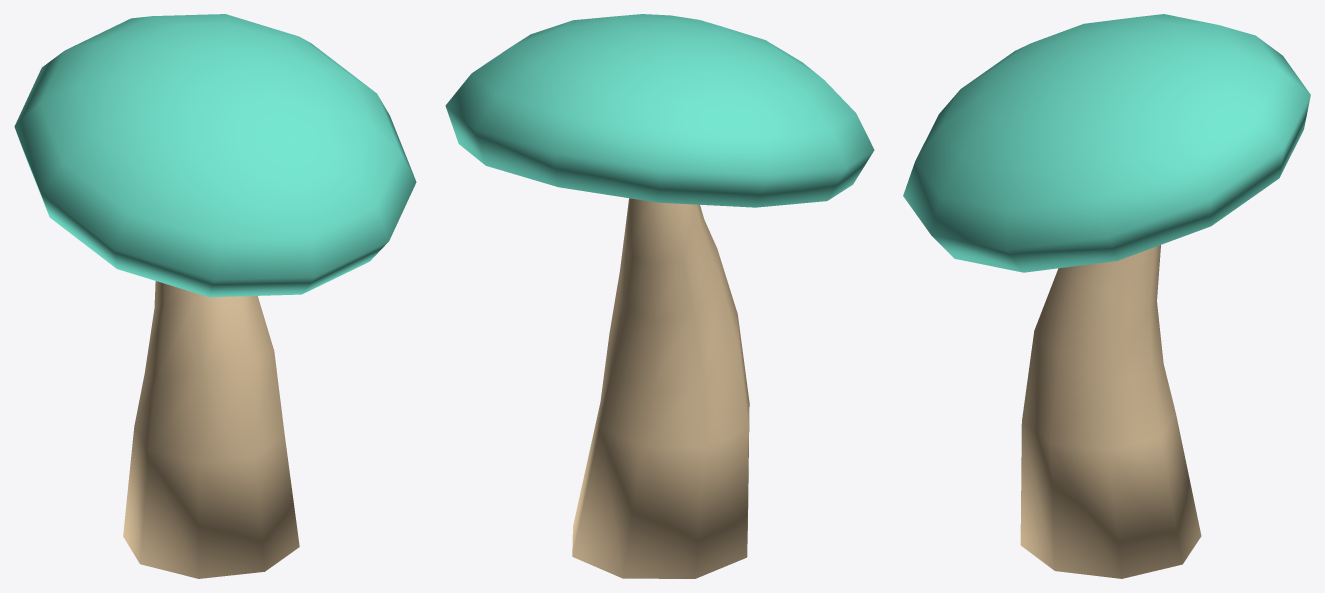
File: ShroomFloor_1.fbx
3 views of the same model, side by side, from view 1: azimuth 30°, elevation 25°; view 2: azimuth 150°, elevation 25°; view 3: azimuth 270°, elevation 25° (orthographic). The views are drawn at different scales.
Visible parts, largest first — view 1: ShroomFloor_1; view 2: ShroomFloor_1; view 3: ShroomFloor_1.
Boxes of the visible parts, box(x1,y1,x2,y2) form: ShroomFloor_1: box(14, 14, 416, 578); ShroomFloor_1: box(445, 14, 874, 578); ShroomFloor_1: box(903, 14, 1310, 578).
Bounding box in the file's own units: 265 × 352 × 261.
